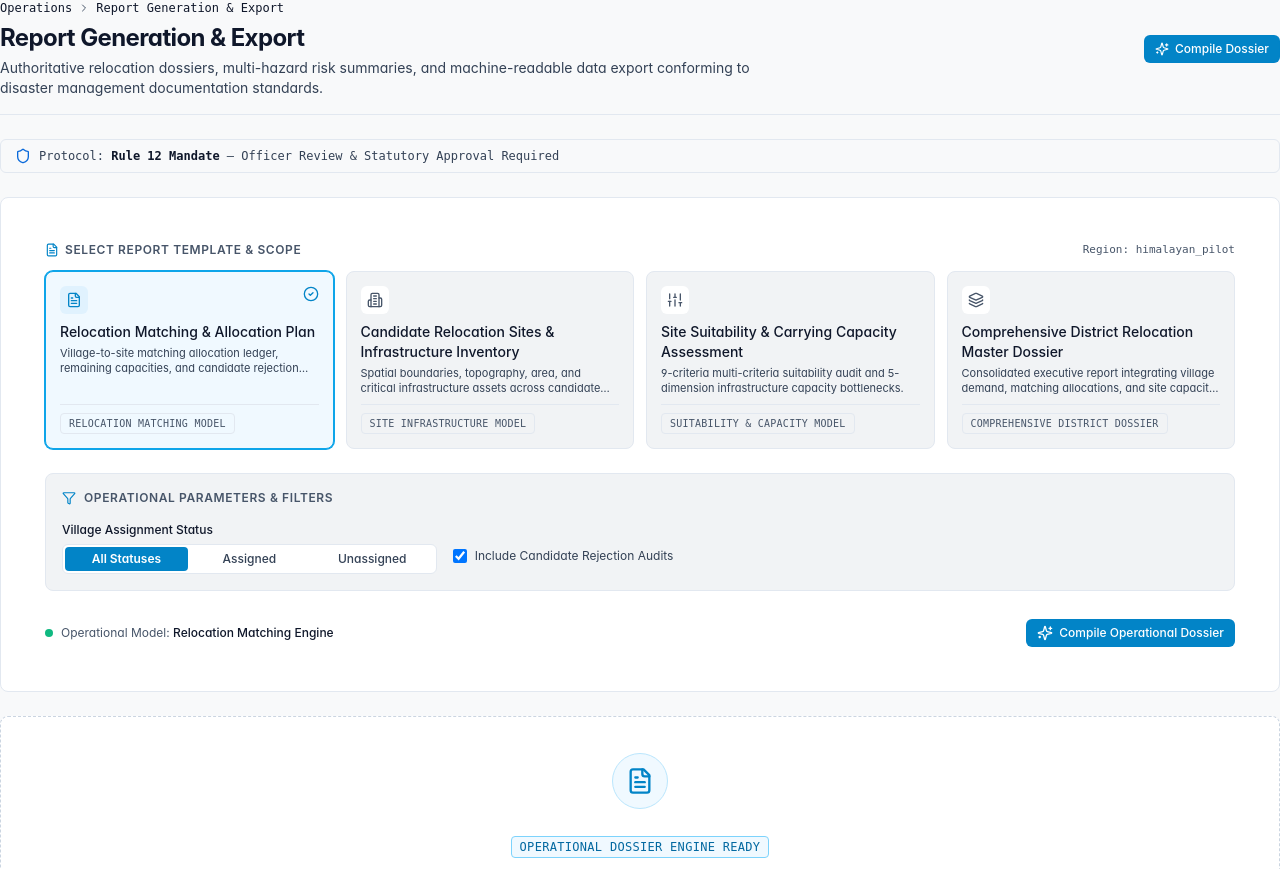
Test: Report Generation & Export UI Suite (Chunk M6-07) › 9. Action Toolbar: Export JSON downloads structured payload
The image size is (1280, 869).
Click the button "Compile Operational Dossier" at (1131, 633), box top-left (1026, 619), bottom-right (1235, 647)
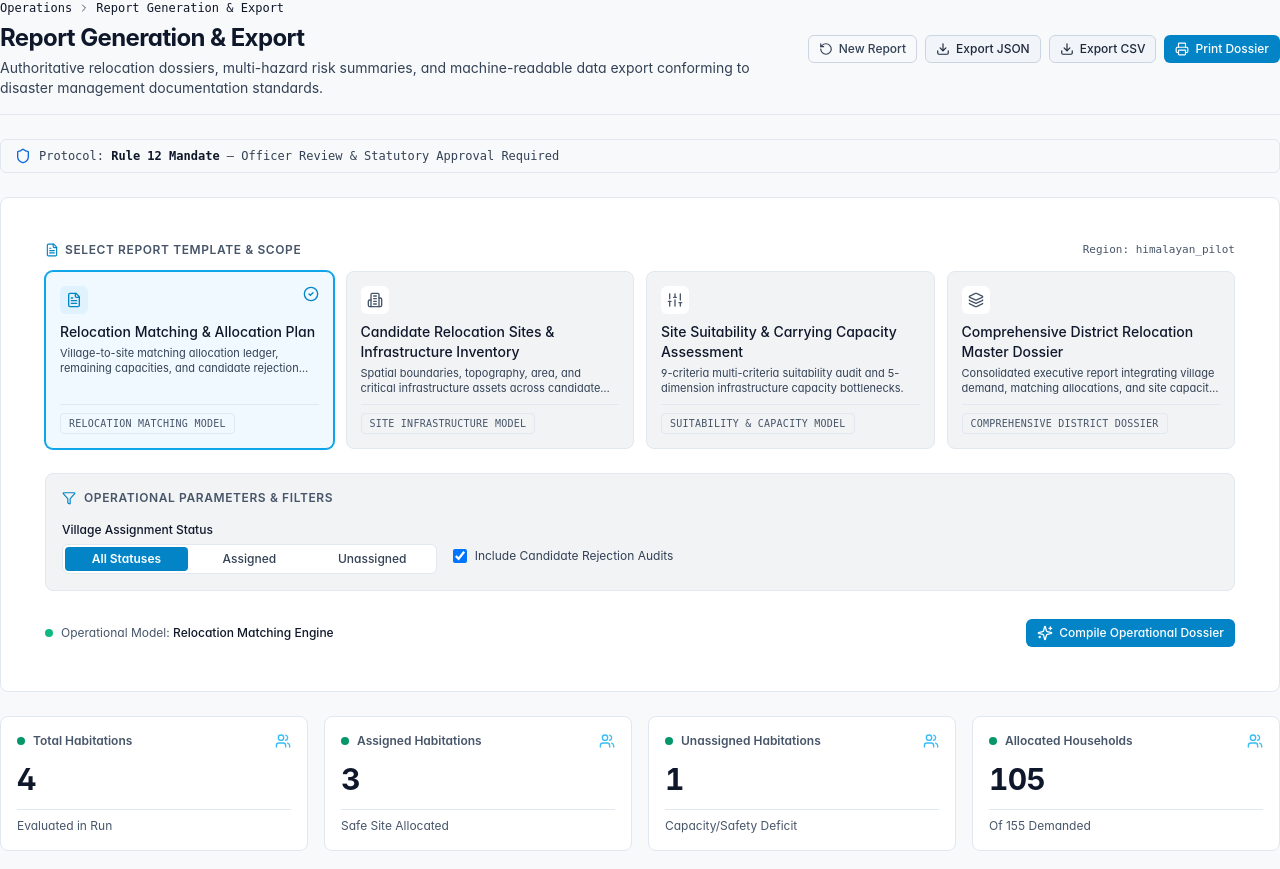
Expected: the button "Export JSON" is shown
Click the button "Export JSON" at (983, 49), box top-left (925, 35), bottom-right (1041, 63)
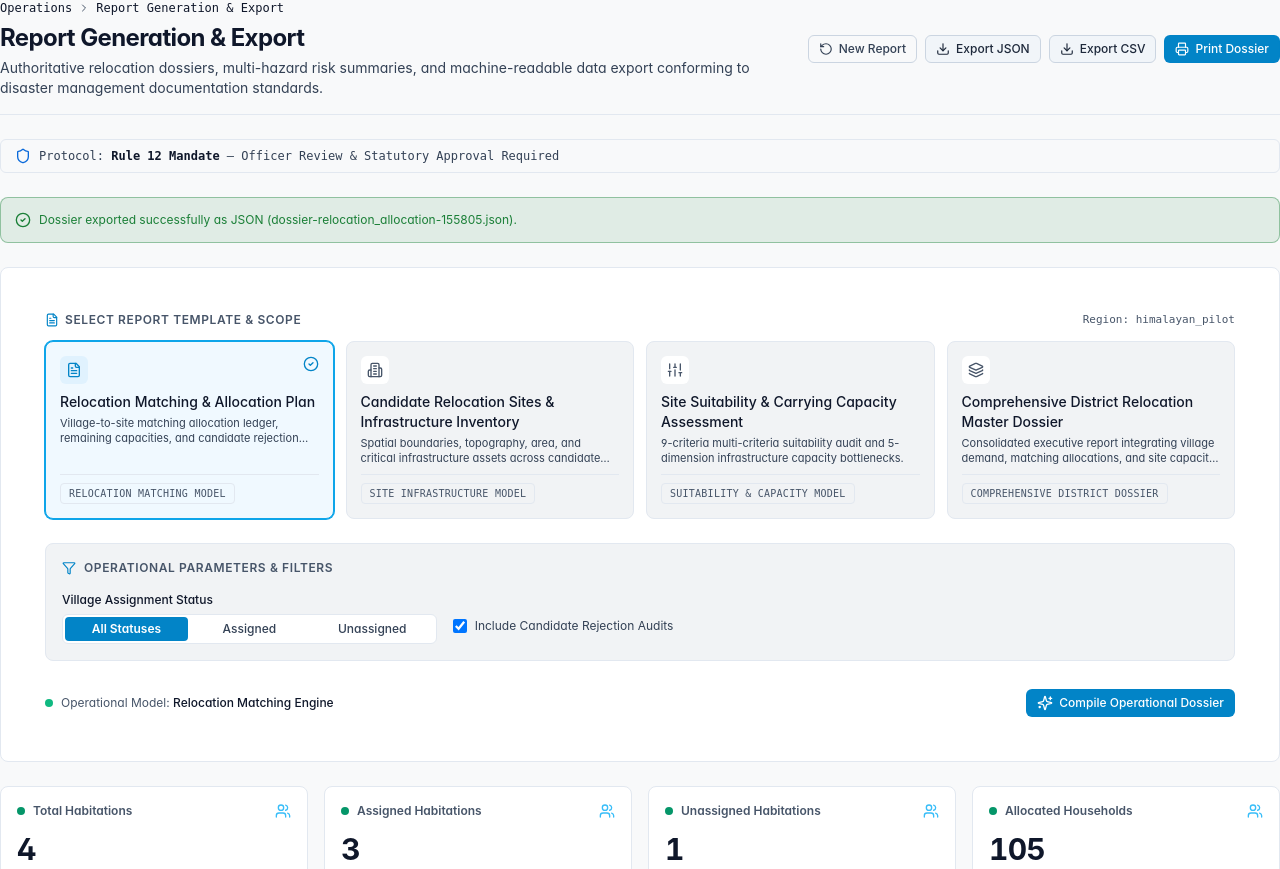
Expected: the text "Dossier exported successfully as JSON" is shown, top-left (39, 212), bottom-right (517, 227)
